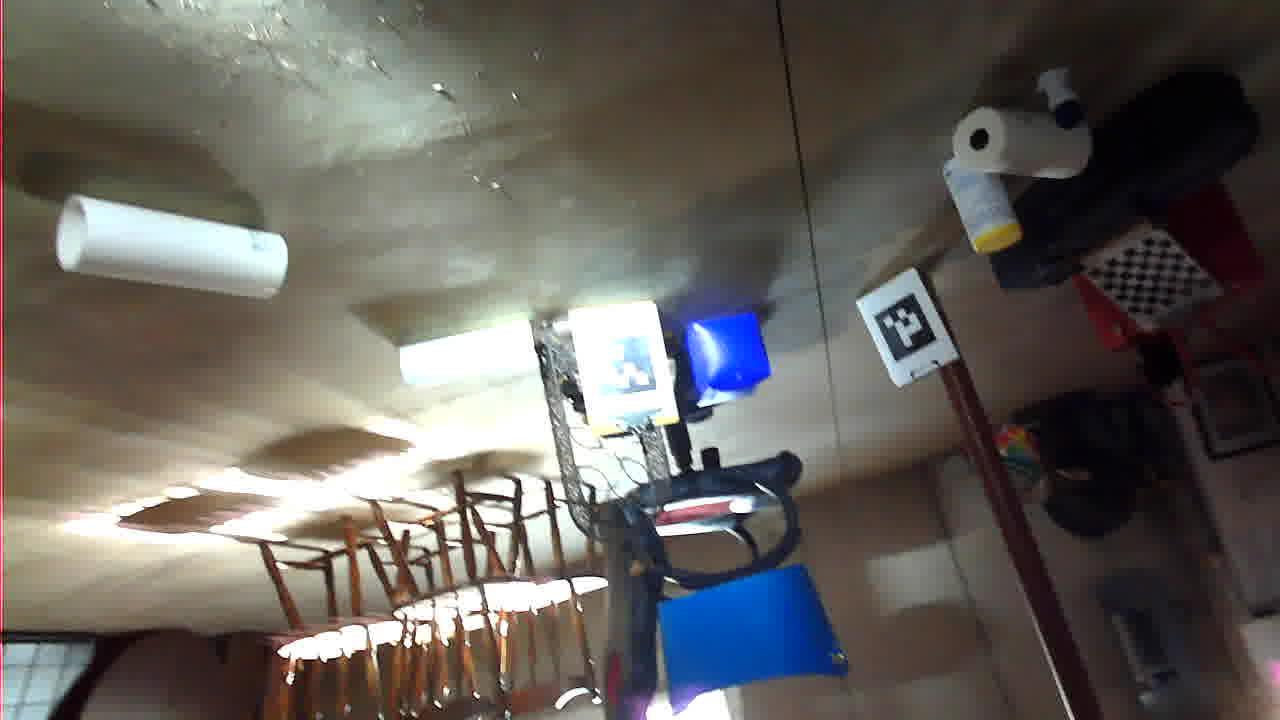coral: (992, 421, 1224, 525), (742, 333, 881, 402)
